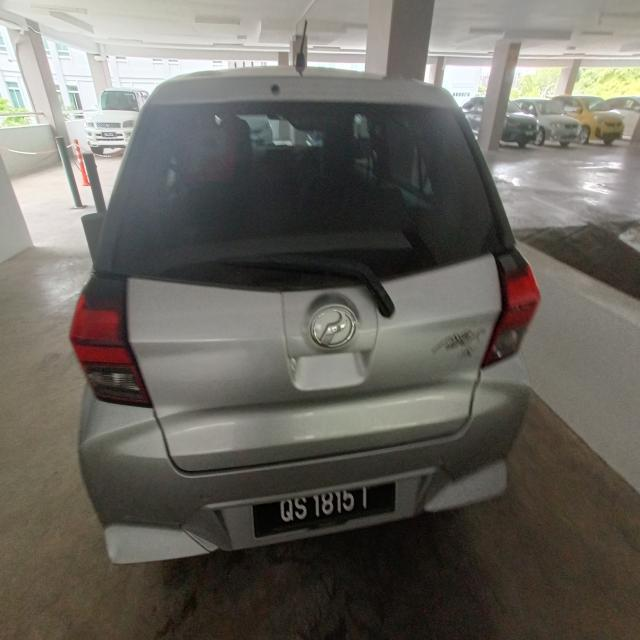PeroduaAxia: (69, 65, 542, 565)
